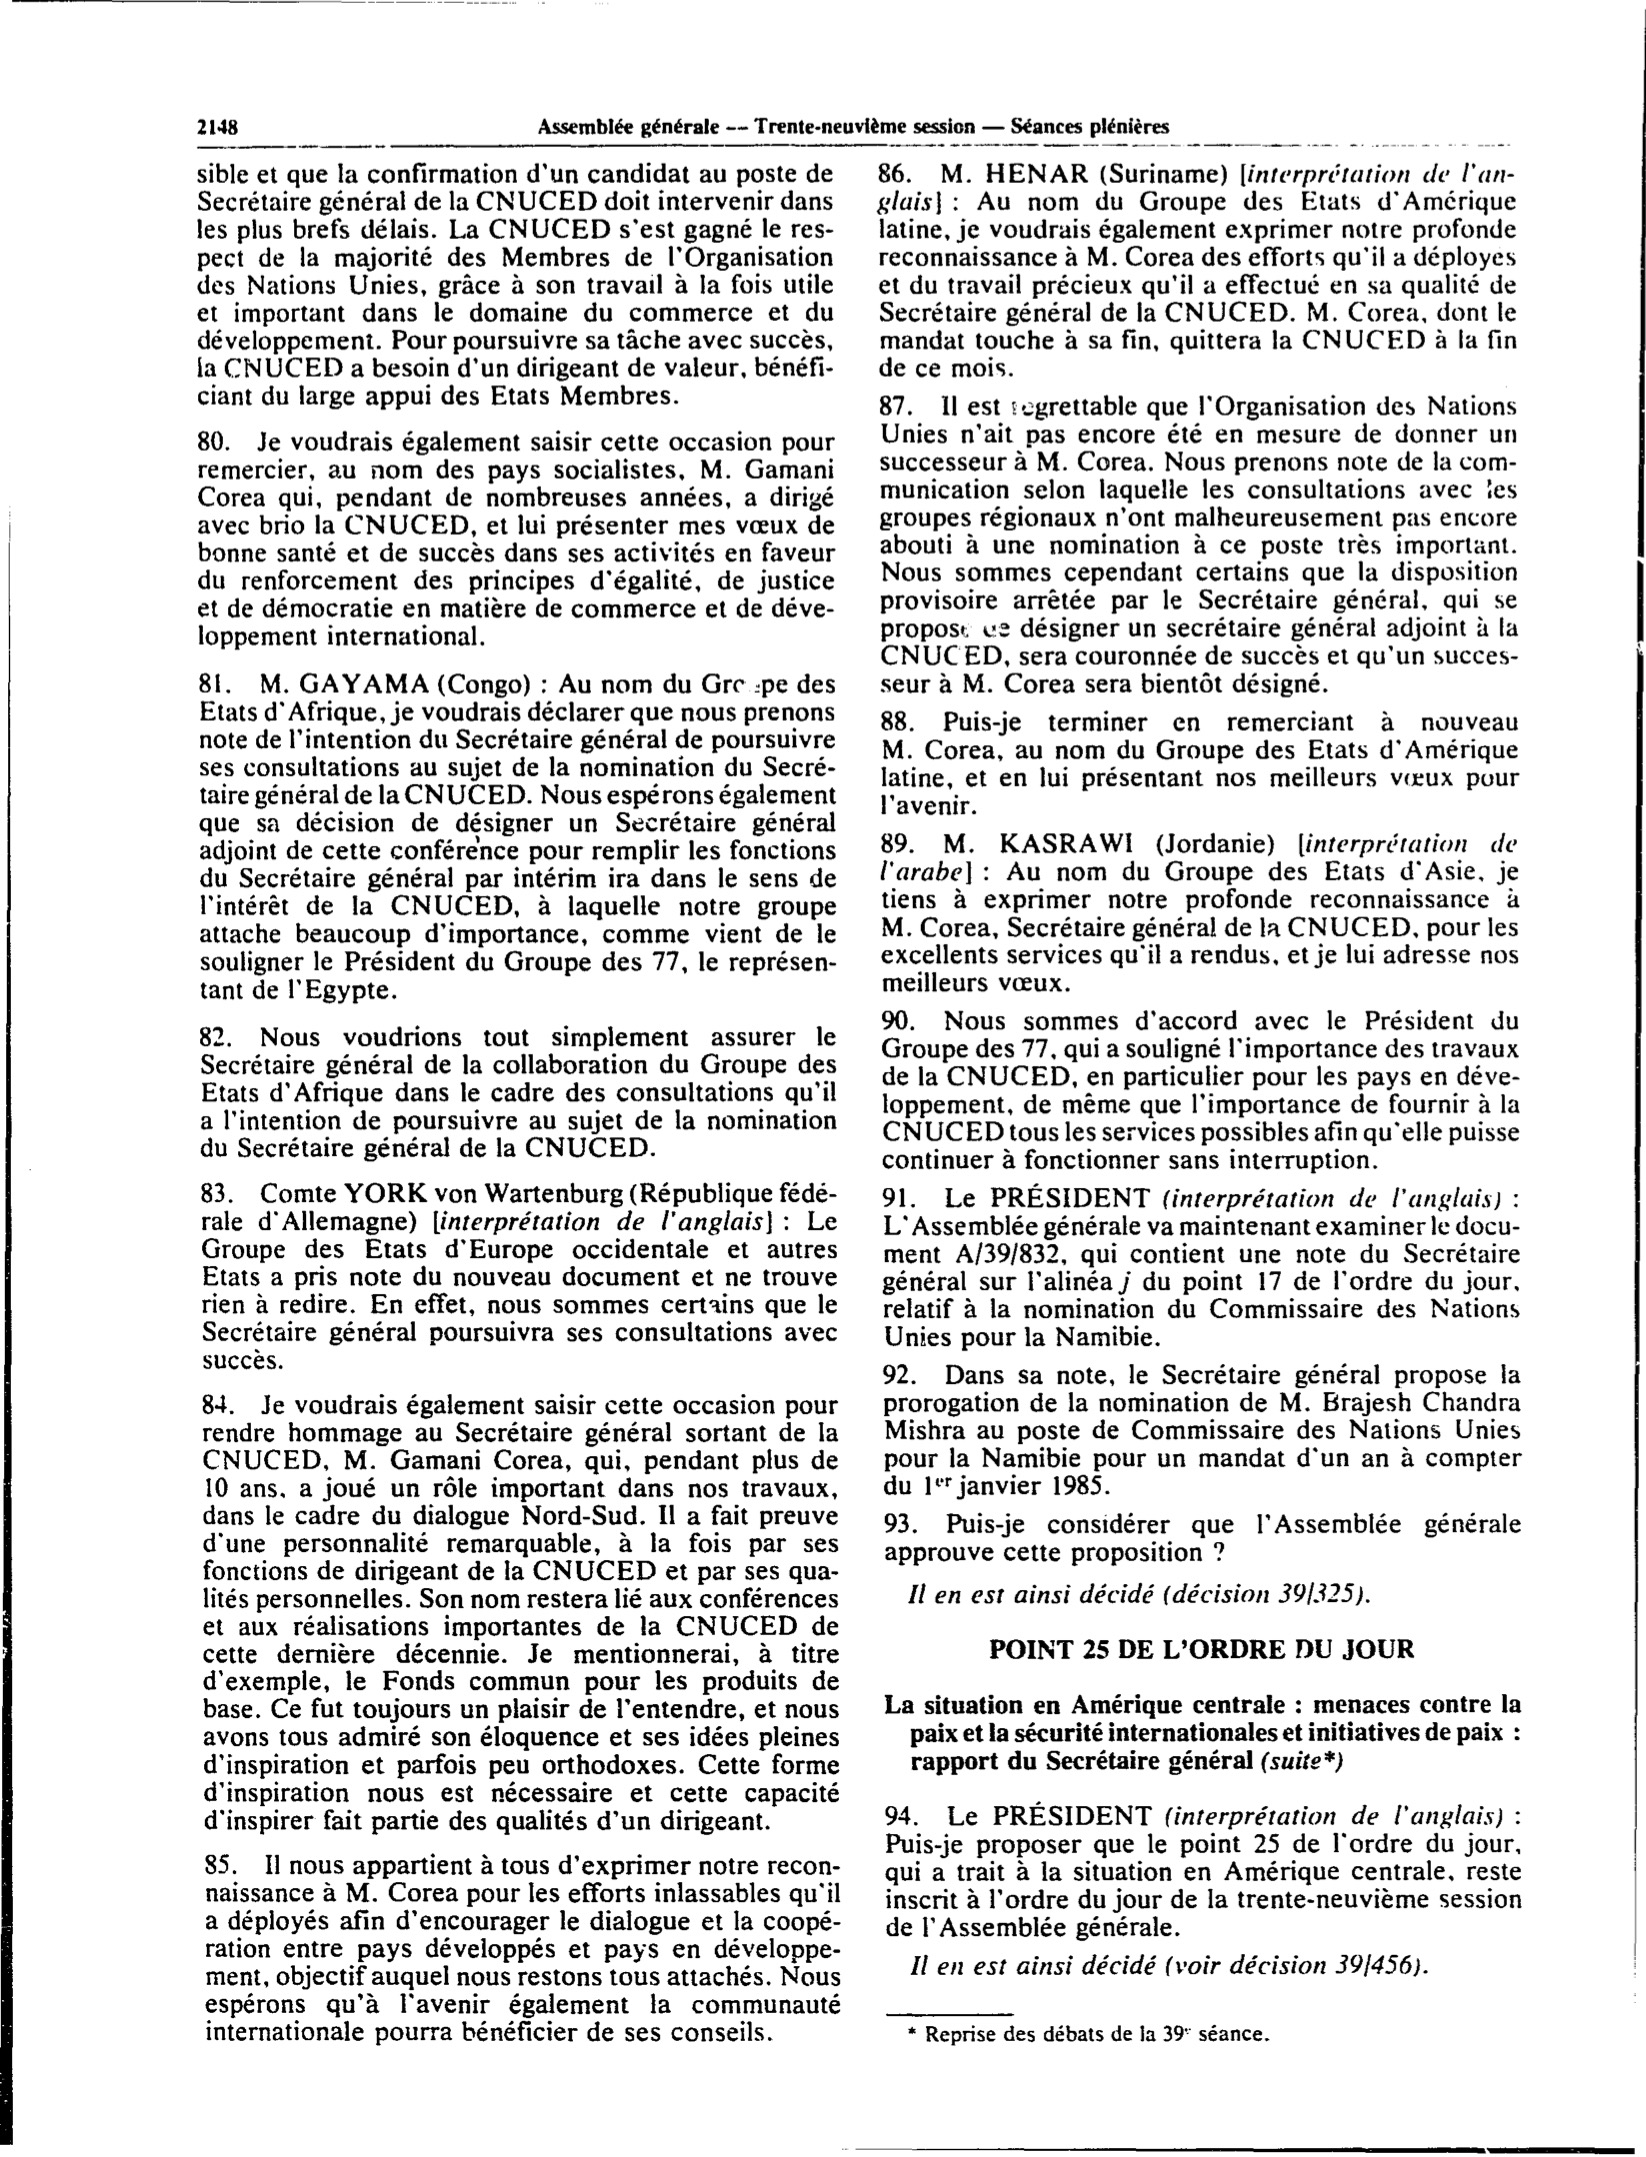MainZone-Continued: (187, 152, 840, 414)
MainZone-Head: (877, 1688, 1530, 1780), (978, 1626, 1425, 1669)
MainZone-ListItem: (189, 1384, 846, 1838), (188, 664, 842, 1010), (869, 389, 1524, 701), (189, 424, 841, 653), (871, 156, 1523, 384), (195, 1847, 847, 2051), (191, 1174, 844, 1377), (873, 825, 1527, 998), (875, 1181, 1528, 1353), (873, 1002, 1527, 1173), (191, 1018, 845, 1167), (877, 1798, 1530, 1944), (876, 1356, 1528, 1501), (873, 706, 1527, 822), (874, 1504, 1530, 1571)
MainZone-P: (882, 1948, 1442, 1988), (881, 1575, 1380, 1615)
MarginTextZone-Notes: (895, 2013, 1281, 2057)
NumberingZone: (187, 110, 244, 143)
RunningTitleZone: (529, 110, 1174, 147)
